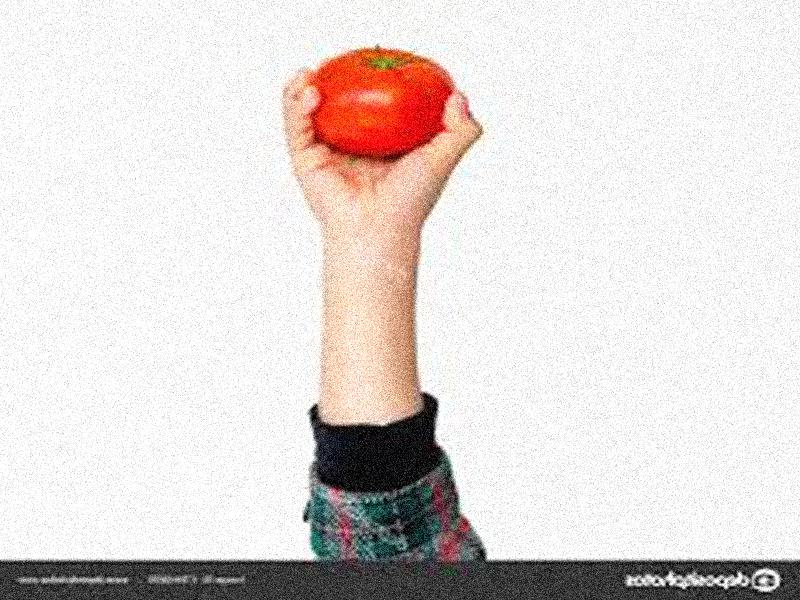Tomato: (306, 44, 454, 158)
